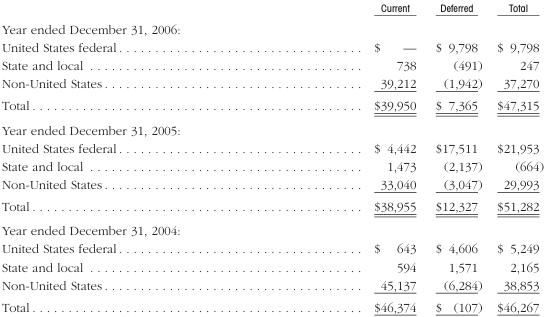table: (0, 0, 543, 313)
table column: (0, 0, 247, 313), (247, 0, 425, 313), (425, 0, 488, 313), (488, 0, 543, 313)
table column header: (0, 0, 543, 17)
table projected row header: (0, 117, 543, 138), (0, 218, 543, 239), (0, 17, 543, 37)
table row: (0, 194, 543, 218), (0, 94, 543, 117), (0, 117, 543, 138), (0, 218, 543, 239), (0, 17, 543, 37), (0, 74, 543, 94), (0, 174, 543, 194), (0, 275, 543, 295), (0, 37, 543, 56), (0, 56, 543, 74), (0, 138, 543, 156), (0, 156, 543, 174), (0, 239, 543, 257), (0, 257, 543, 275), (0, 295, 543, 313), (0, 0, 543, 17)
